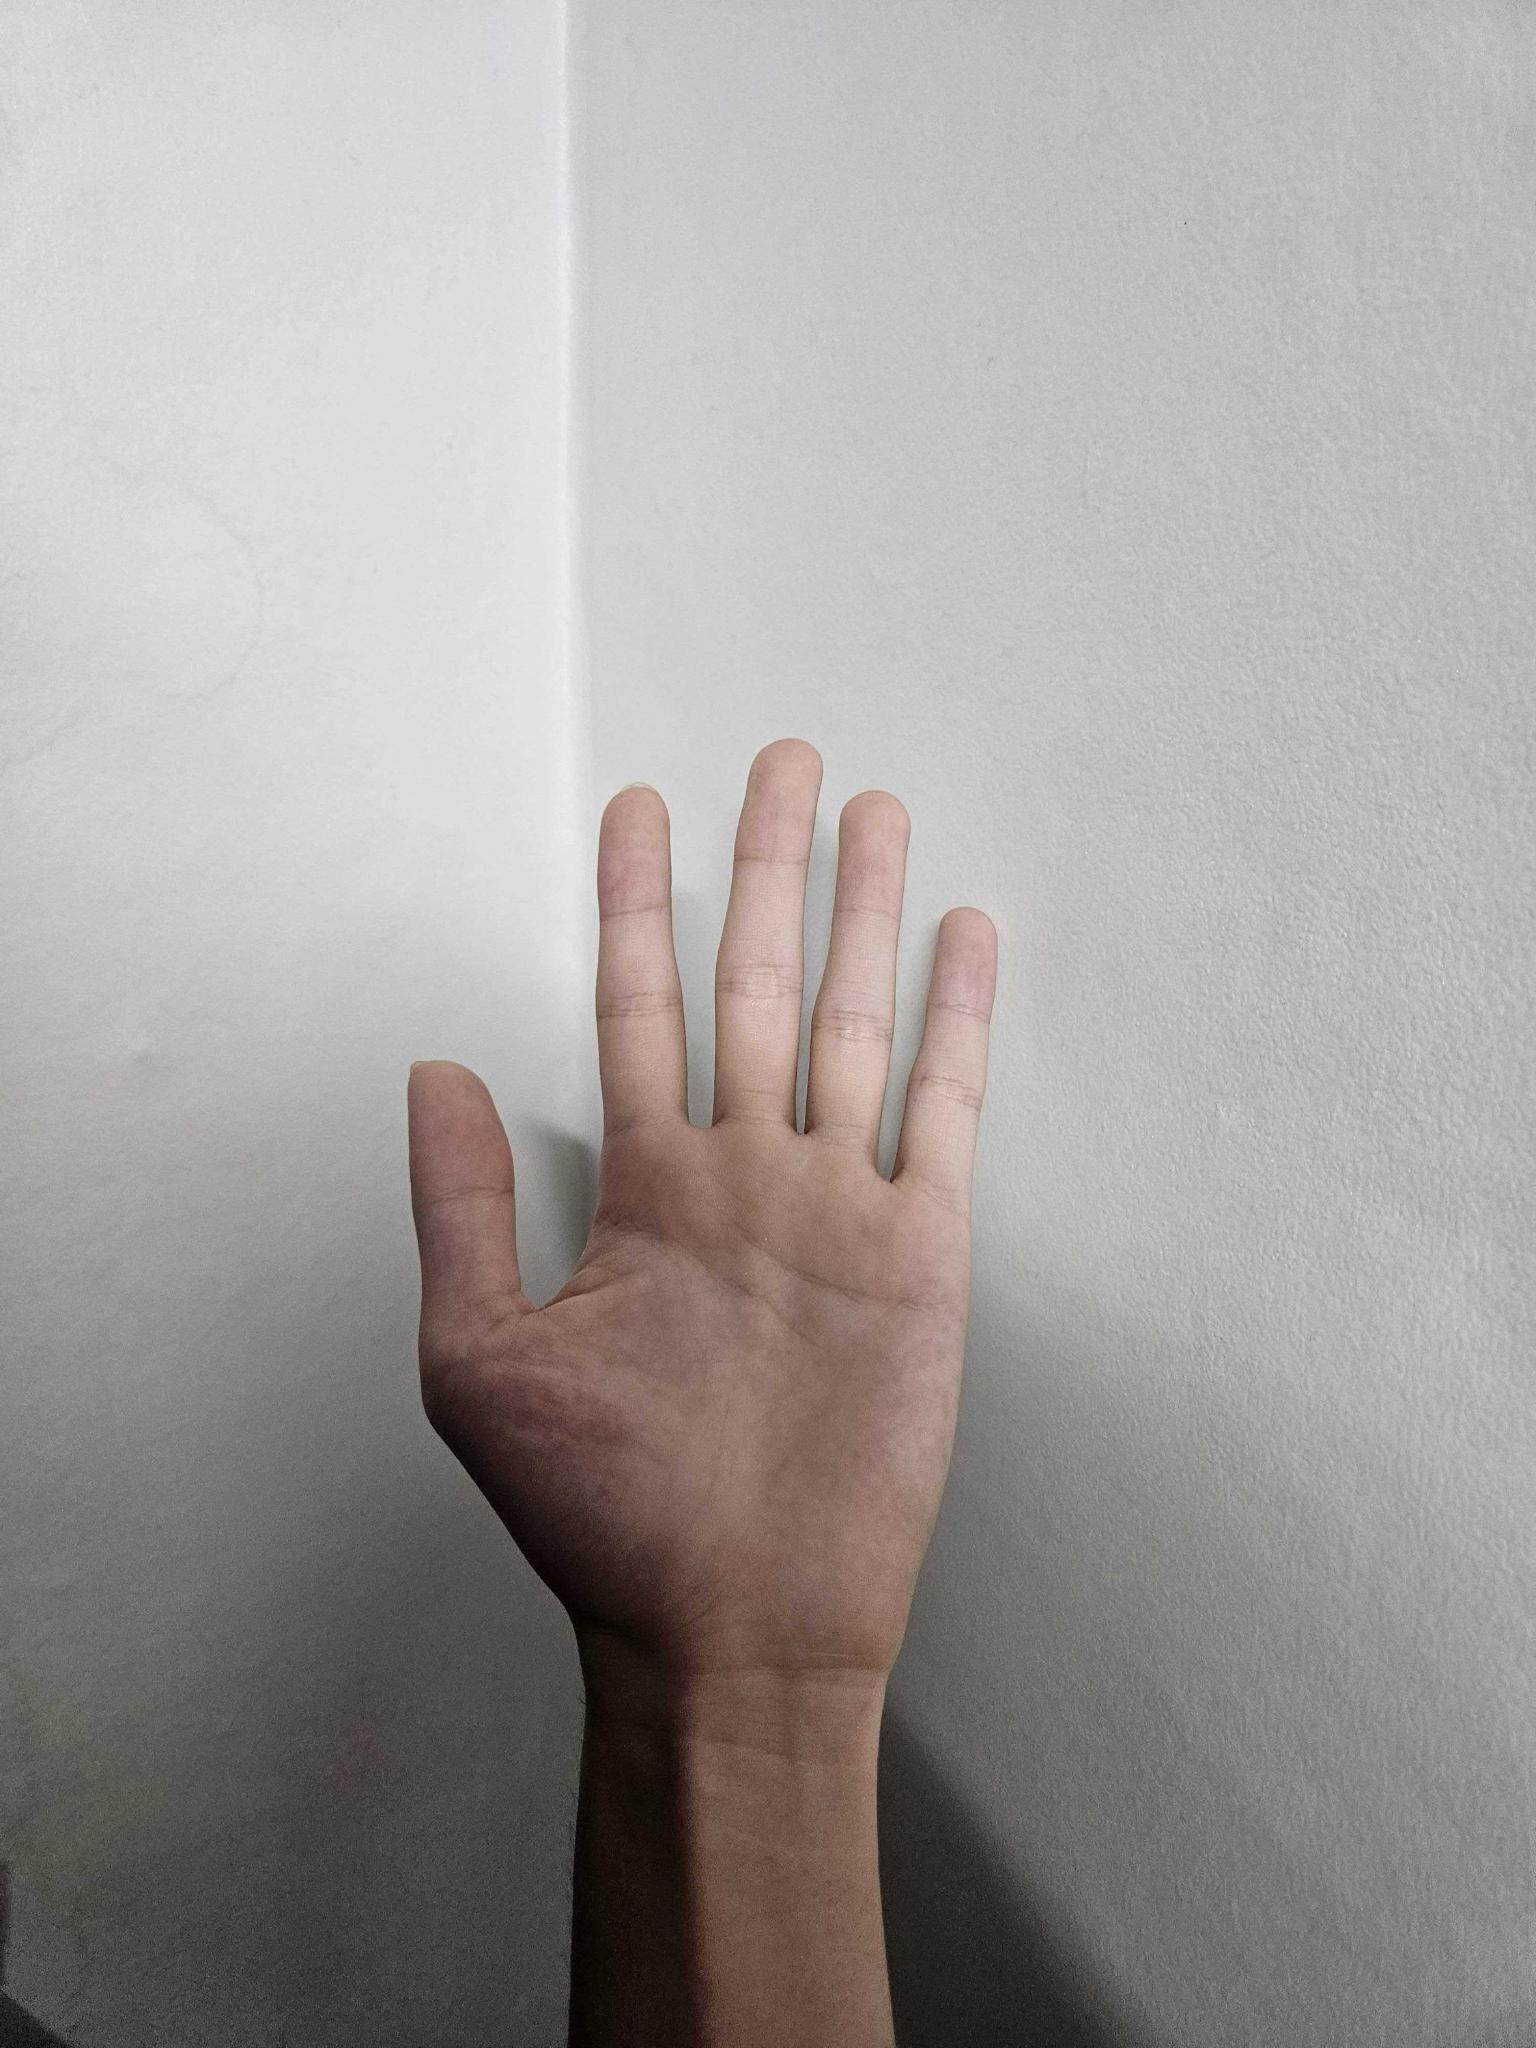open: (395, 731, 1007, 1696)
